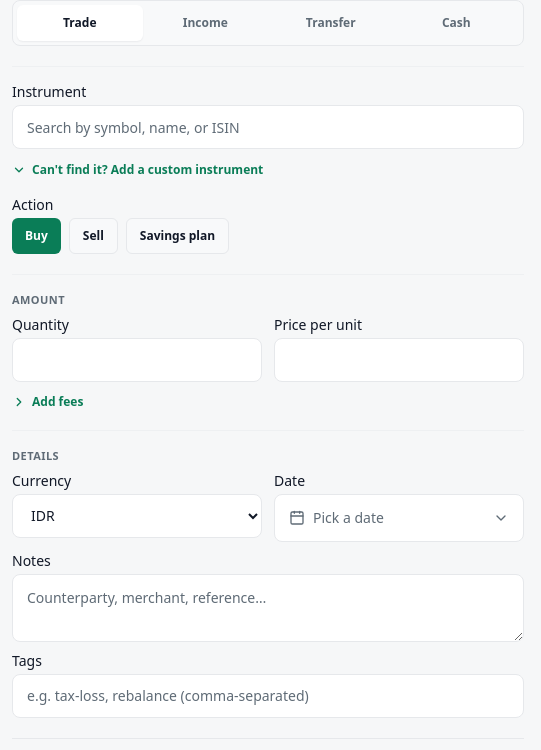
it: add-transaction disclosures › reports the fees/tax disclosure state and rotates its chevron only when open
The width and height of the screenshot is (541, 750).
Click the button "Add fees": (48, 402) [12,394,83,410]
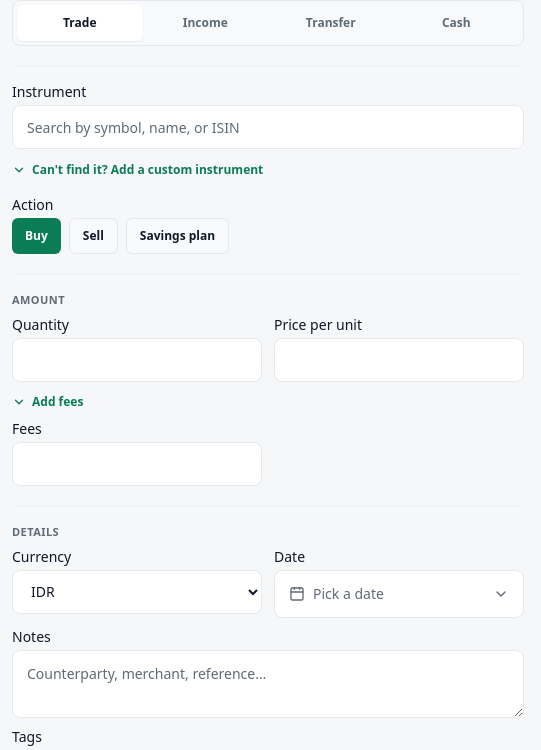
Now the button "Add fees" is expanded, box [12,394,83,410]
